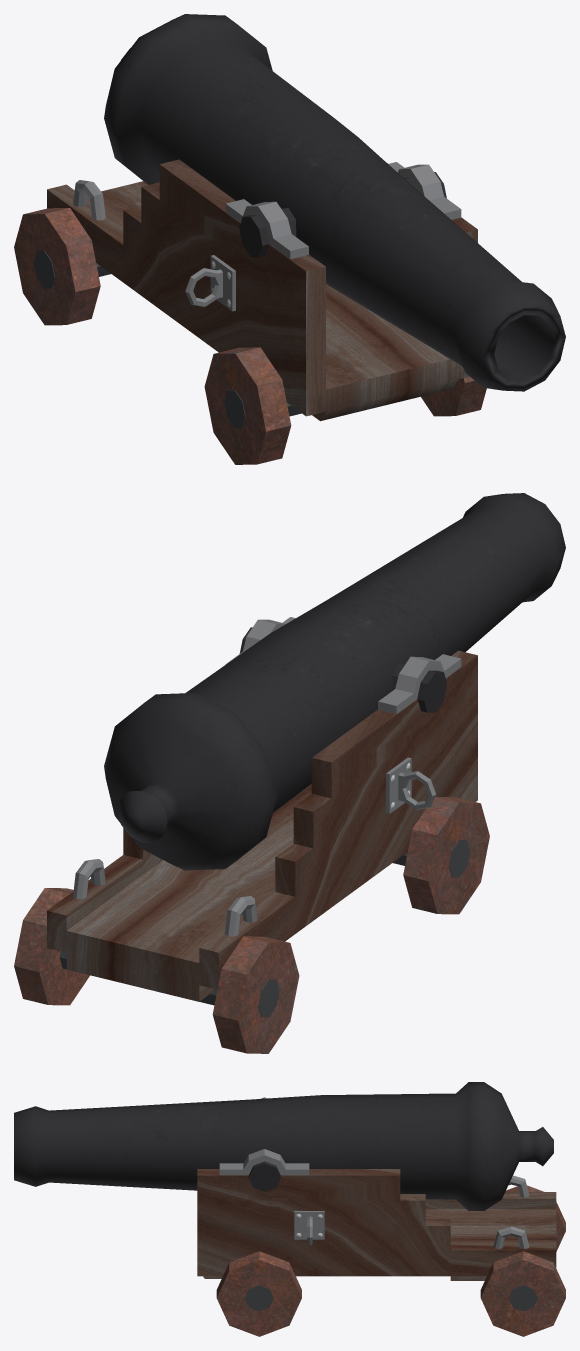
File: cannon.fbx
The picture shows the model from 3 angles, top to bottom: view 1: azimuth 30°, elevation 25°; view 2: azimuth 150°, elevation 25°; view 3: azimuth 270°, elevation 25°; orthographic projection. The views are drawn at different scales.
Visible parts, largest first — view 1: cannon_DC; view 2: cannon_DC; view 3: cannon_DC.
Boxes of the visible parts, x1,y1,x2,y2 form: cannon_DC: (14, 14, 565, 464); cannon_DC: (14, 493, 565, 1053); cannon_DC: (14, 1082, 565, 1336).
Size of the model in its own units: 8.93 by 10.38 by 24.59.
